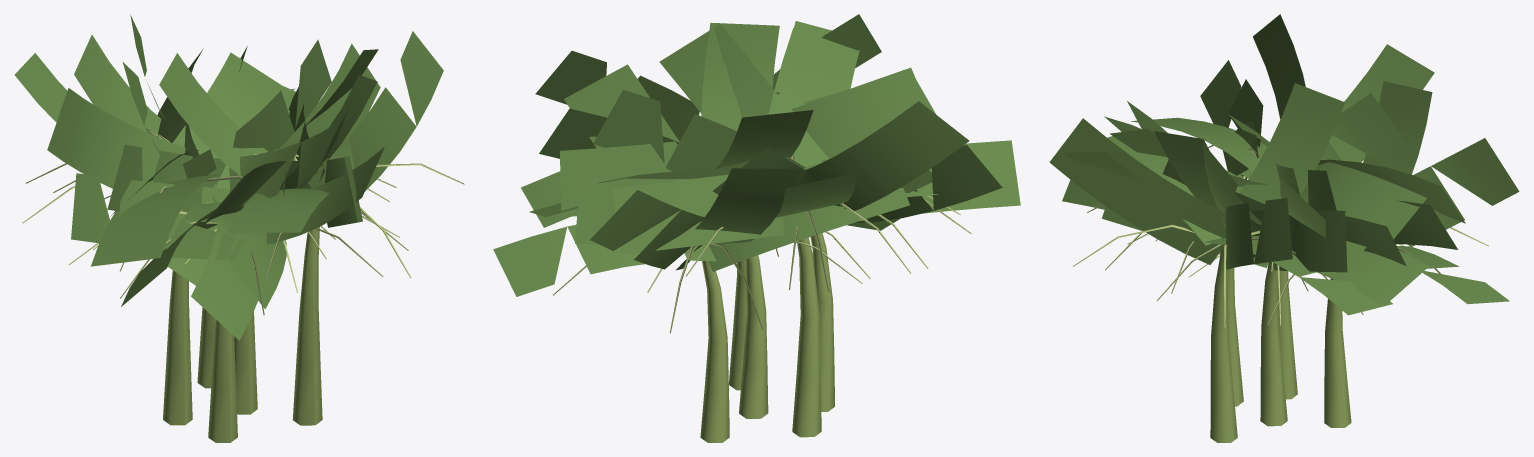
File: veg.banana.gltf
The picture shows the model from 3 angles, left to right: view 1: azimuth 30°, elevation 25°; view 2: azimuth 150°, elevation 25°; view 3: azimuth 270°, elevation 25°; orthographic projection. The views are drawn at different scales.
Parts seen in each view (by area): view 1: veg.banana/foliage_tropical#668949, veg.banana/wood_painted#9cb565, veg.banana/wood_painted#baca83; view 2: veg.banana/foliage_tropical#668949, veg.banana/wood_painted#9cb565, veg.banana/wood_painted#baca83; view 3: veg.banana/foliage_tropical#668949, veg.banana/wood_painted#9cb565, veg.banana/wood_painted#baca83.
Part boxes in pixels (box(x1,y1,x2,y2)): veg.banana/foliage_tropical#668949: box(14, 14, 443, 340); veg.banana/wood_painted#9cb565: box(163, 226, 322, 442); veg.banana/wood_painted#baca83: box(22, 129, 464, 314); veg.banana/foliage_tropical#668949: box(493, 14, 1020, 296); veg.banana/wood_painted#9cb565: box(700, 233, 834, 442); veg.banana/wood_painted#baca83: box(553, 154, 971, 333); veg.banana/foliage_tropical#668949: box(1049, 14, 1519, 315); veg.banana/wood_painted#9cb565: box(1210, 249, 1351, 442); veg.banana/wood_painted#baca83: box(1073, 145, 1488, 327).
Size of the model in its own units: 5.1 by 4.15 by 5.35.
